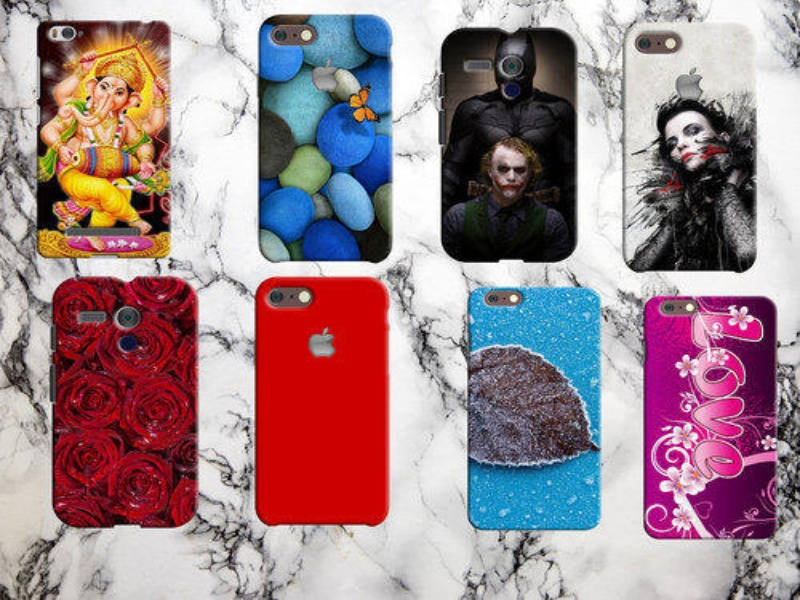mobile: (242, 270, 401, 534), (248, 7, 405, 274), (45, 275, 199, 547), (617, 19, 767, 287), (461, 276, 610, 544), (30, 16, 181, 267), (431, 22, 582, 270), (639, 290, 783, 549)
